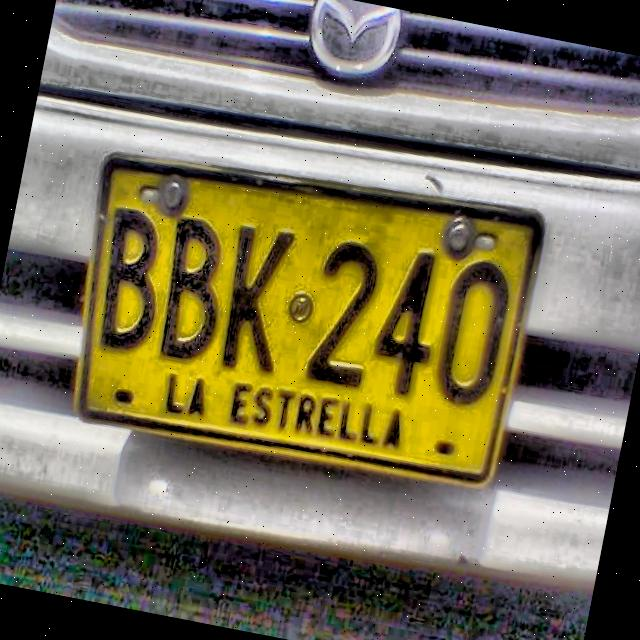plate: (81, 160, 538, 479)
